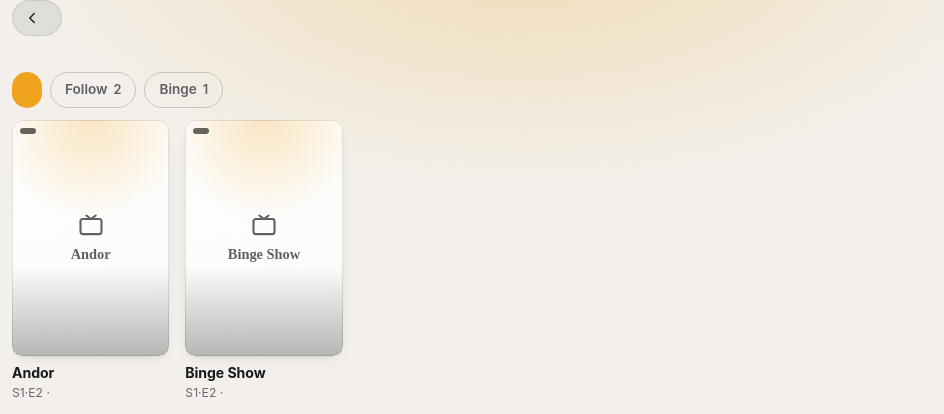
Test: WhatsNextPage › filters by tag and keeps asking for the full list
Click the button "Binge 1" at coordinates (184, 90), box [144,72,223,108]
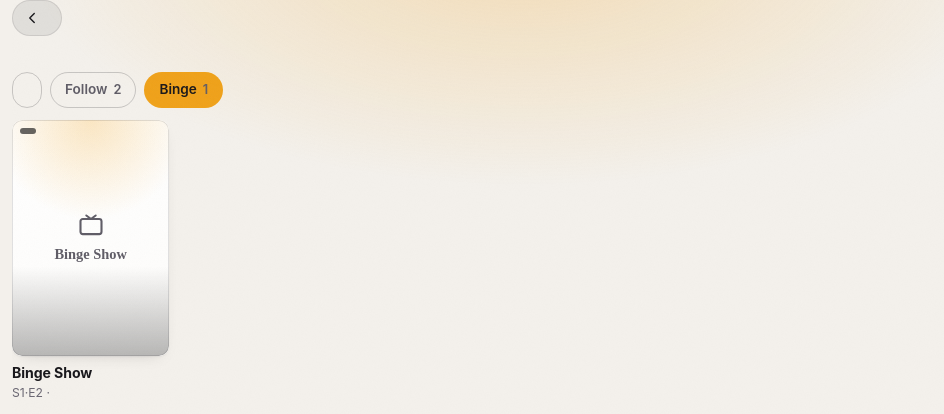
Check: the link "Andor" is gone
